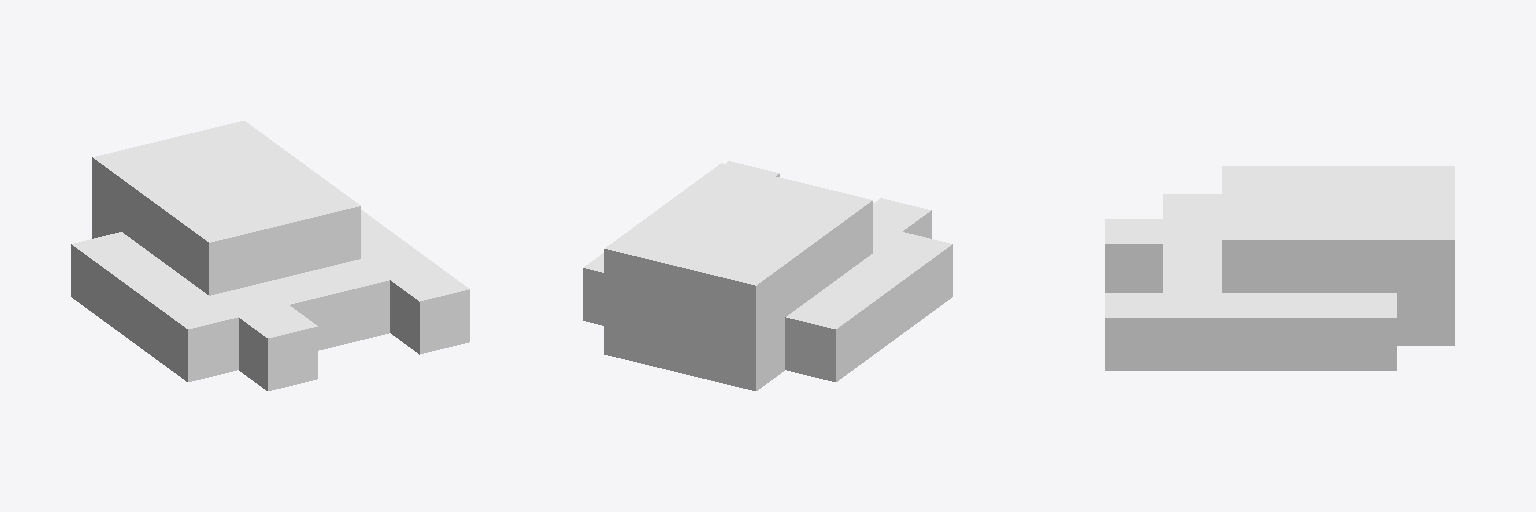
The model's file is ossos-3.obj.
3 renders of one model, left to right at view 1: azimuth 30°, elevation 25°; view 2: azimuth 150°, elevation 25°; view 3: azimuth 270°, elevation 25°, orthographic.
Parts seen in each view (by area): view 1: object 1; view 2: object 1; view 3: object 1.
Boxes of the visible parts, box(x1,y1,x2,y2) form: object 1: box(71, 121, 469, 390); object 1: box(583, 161, 952, 390); object 1: box(1105, 166, 1454, 370).
Bounding box in the file's own units: 0.5 × 0.2 × 0.6.